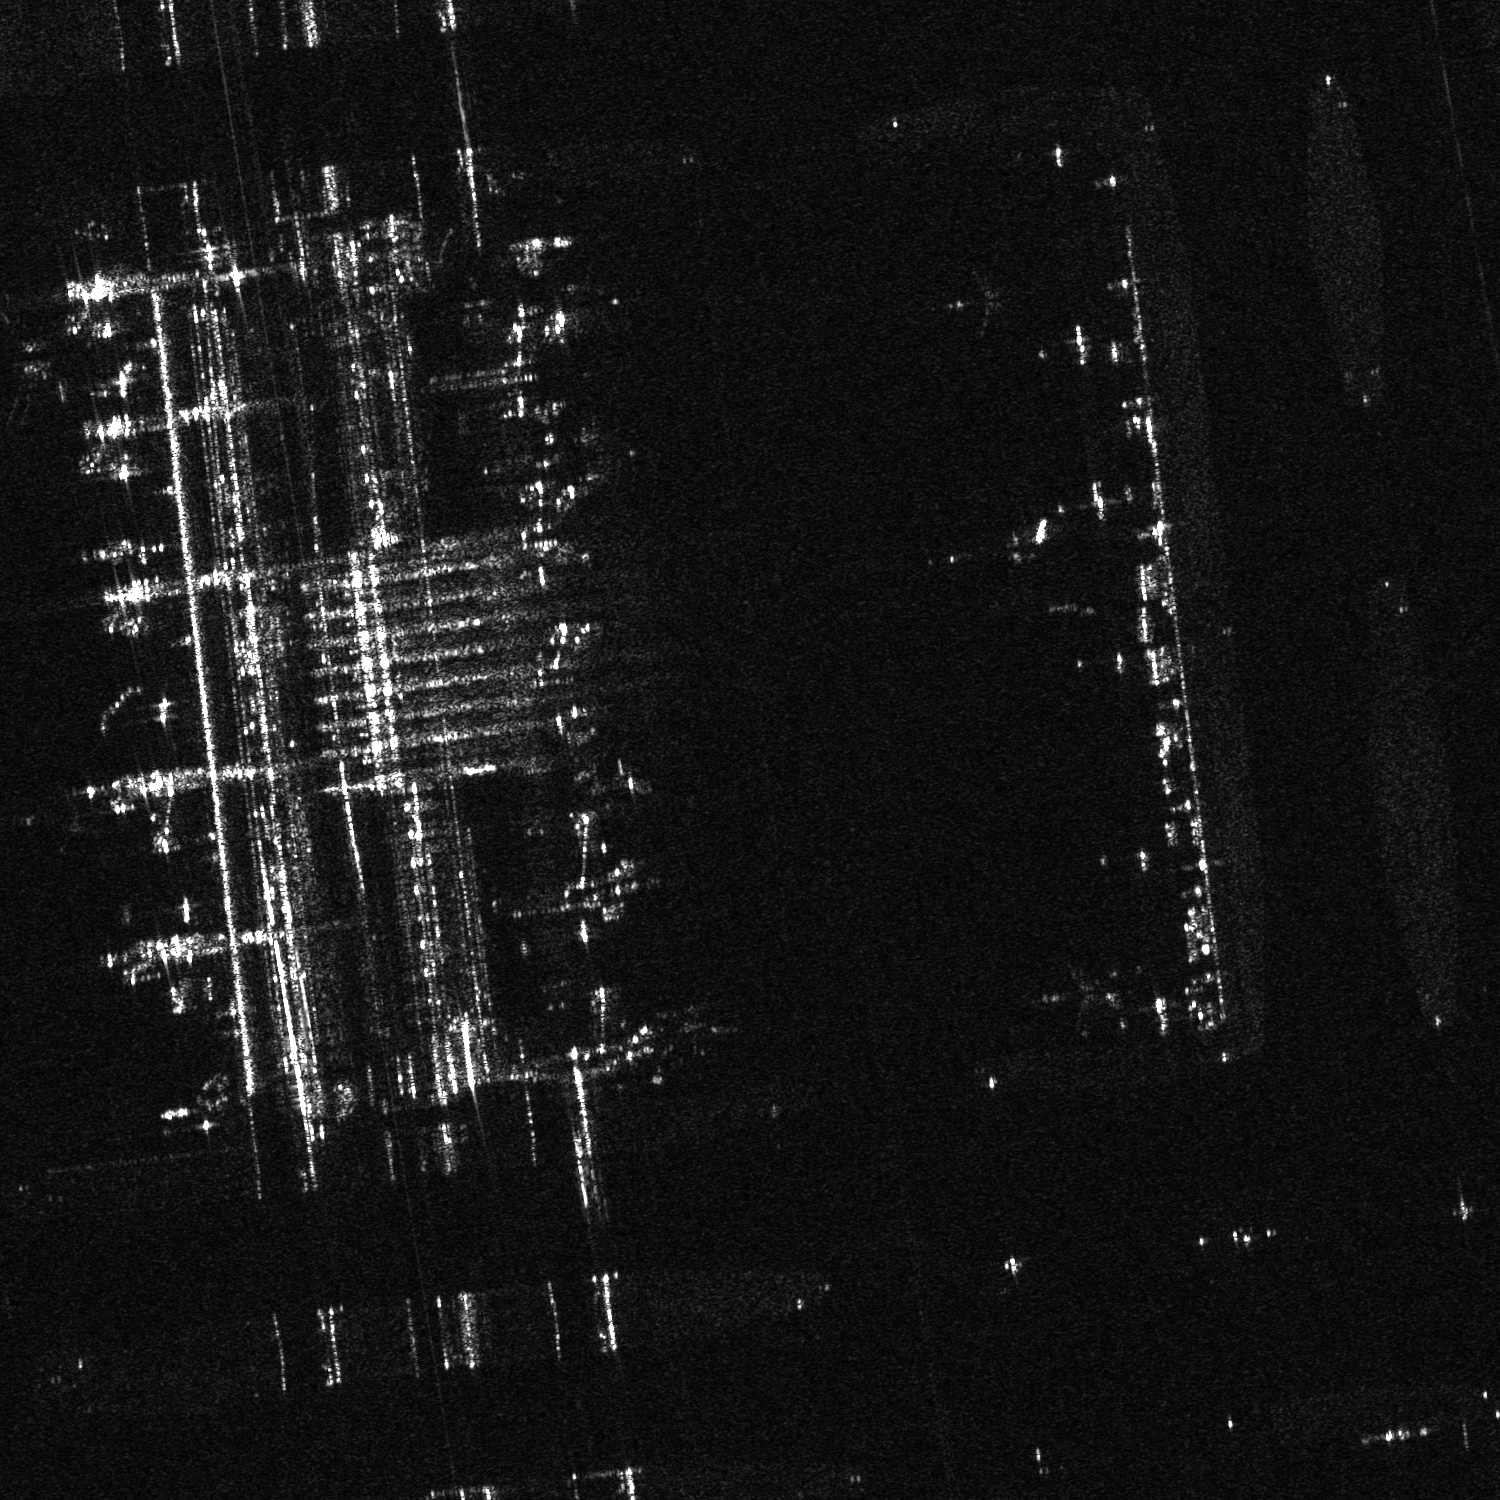Boeing737: (934, 262, 1014, 345)
Boeing787: (1034, 959, 1120, 1040)
